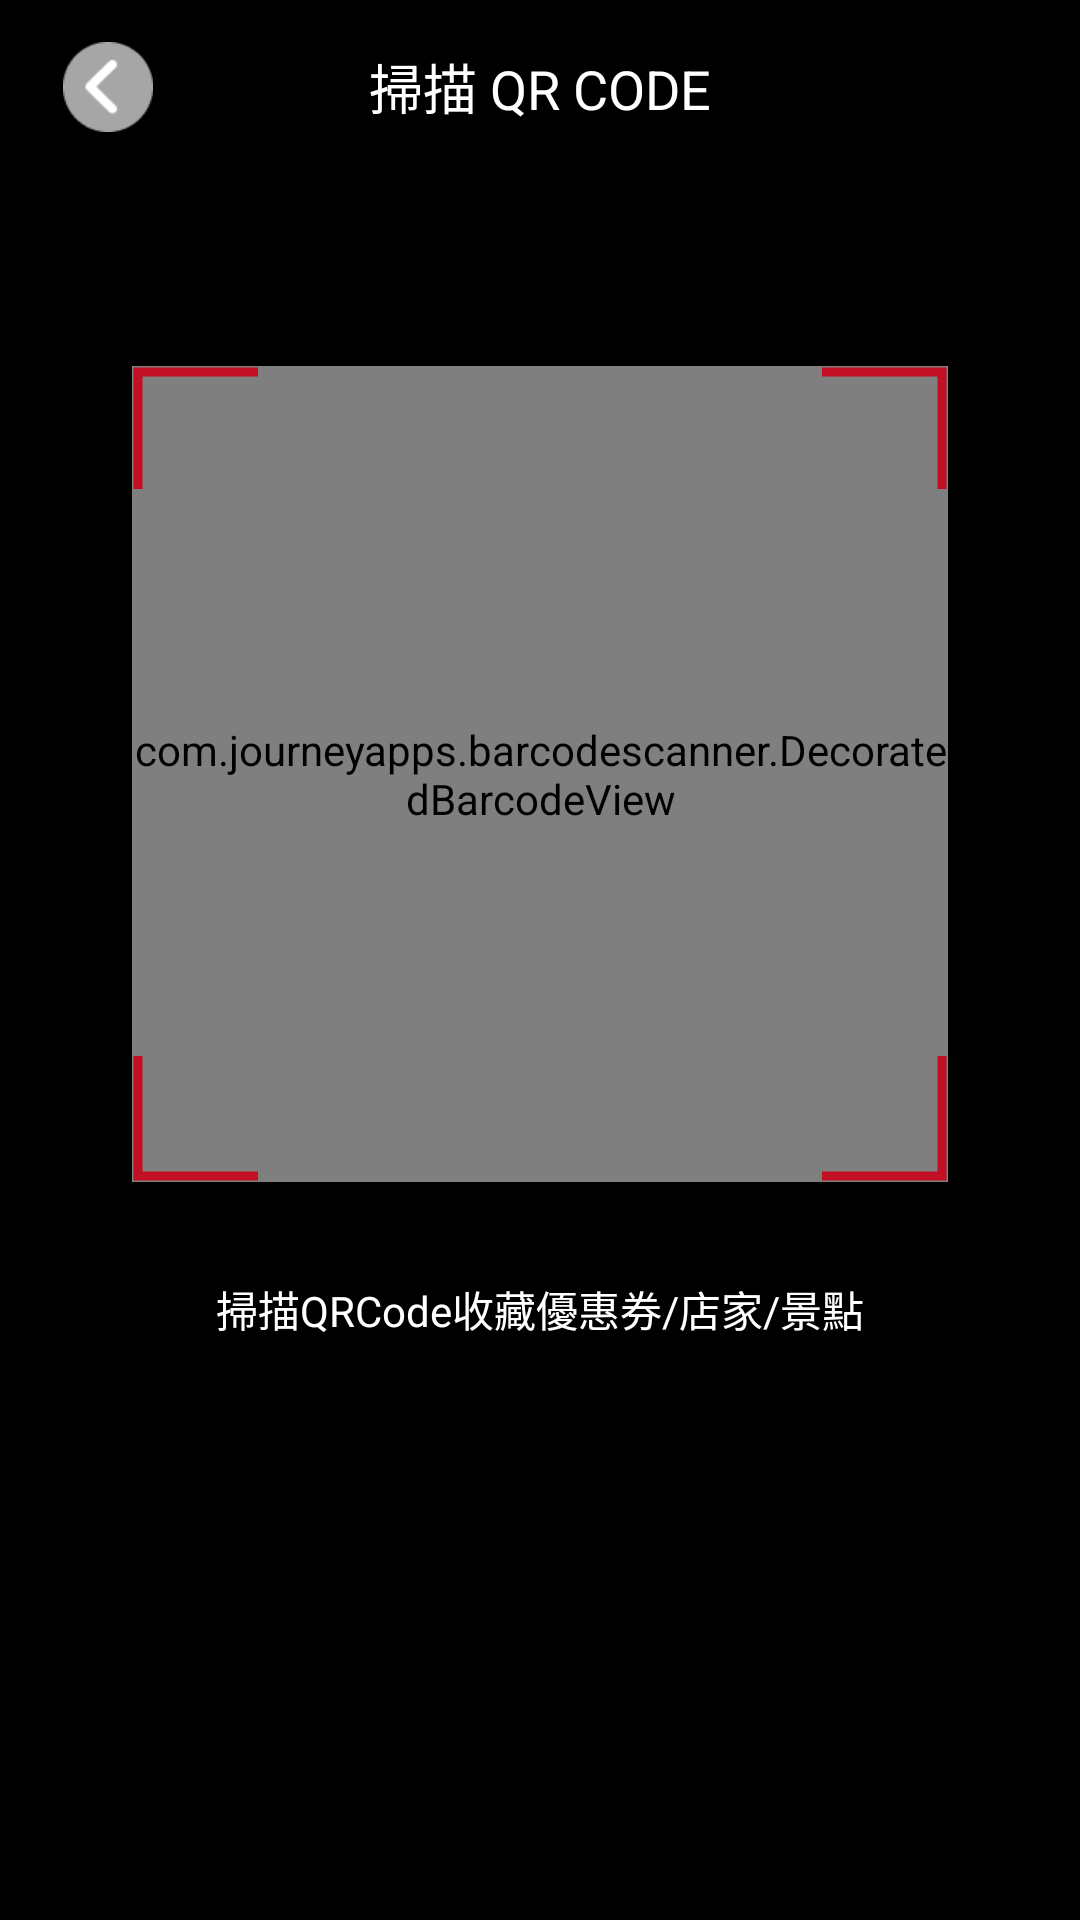

Icon click points for this 1080 x 1920 phone screenshot, format point (x, y):
back: point (108, 87)
